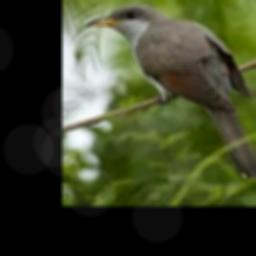Cuckoo: (87, 4, 256, 181)
